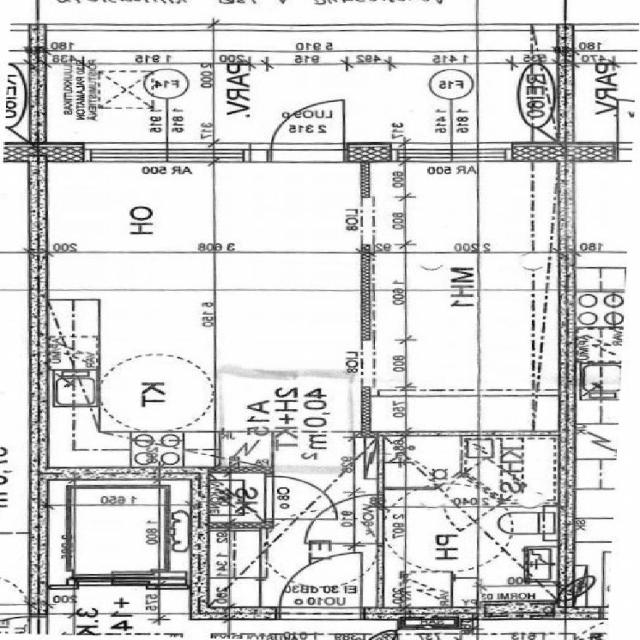door: (280, 552, 360, 618), (272, 92, 345, 161), (306, 494, 384, 543), (265, 476, 336, 519)
